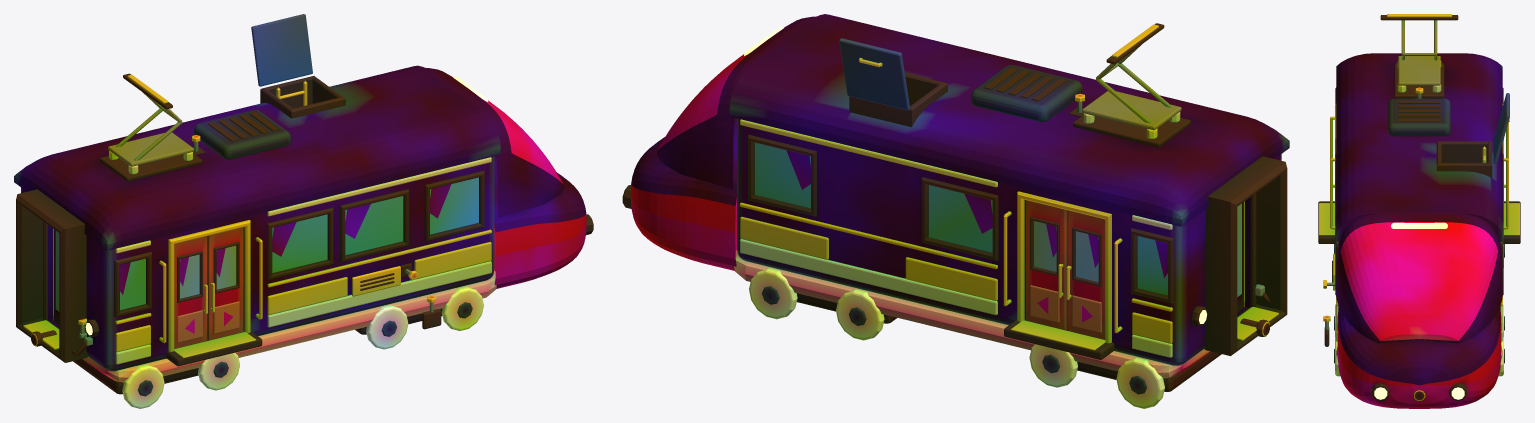
Rendered from ModernCabCar_Blockout.fbx.
The picture shows the model from 3 angles, left to right: view 1: azimuth 30°, elevation 25°; view 2: azimuth 150°, elevation 25°; view 3: azimuth 270°, elevation 25°; orthographic projection. The views are drawn at different scales.
Visible parts, largest first — view 1: Roof, Body, Windows, Nose, Underframe, Livery, Ends, SideDoorLeaf_R, SideDoorLeaf_L, RoofHatch_Cab, SideDoorSill, SideDoorFrame (+3 smaller); view 2: Roof, Body, Nose, Underframe, Livery, Windows, Ends, SideDoorLeaf_R_Far, SideDoorLeaf_L_Far, RoofHatch_Cab, SideDoorSill_Far, SideDoorFrame_Far (+2 smaller); view 3: Nose, Roof, SideDoorSill, SideDoorSill_Far, Fixed_Rail__Pantograph, Windows, RoofHatch_Cab, Underframe.
Part boxes in pixels (bbox=[...]): Roof: bbox=[14, 65, 500, 250]; Body: bbox=[21, 156, 494, 371]; Windows: bbox=[114, 170, 484, 317]; Nose: bbox=[425, 67, 593, 288]; Underframe: bbox=[73, 270, 496, 408]; Livery: bbox=[115, 157, 491, 364]; Ends: bbox=[16, 189, 99, 362]; SideDoorLeaf_R: bbox=[207, 227, 243, 339]; SideDoorLeaf_L: bbox=[174, 236, 207, 348]; RoofHatch_Cab: bbox=[251, 14, 312, 86]; SideDoorSill: bbox=[159, 237, 262, 366]; SideDoorFrame: bbox=[168, 220, 250, 351]; Roof: bbox=[729, 14, 1289, 226]; Body: bbox=[737, 118, 1281, 365]; Nose: bbox=[622, 16, 816, 270]; Underframe: bbox=[734, 250, 1221, 408]; Livery: bbox=[739, 119, 1172, 357]; Windows: bbox=[748, 134, 1174, 303]; Ends: bbox=[1191, 156, 1287, 355]; SideDoorLeaf_R_Far: bbox=[1025, 200, 1067, 329]; SideDoorLeaf_L_Far: bbox=[1066, 210, 1105, 339]; RoofHatch_Cab: bbox=[839, 38, 909, 110]; SideDoorSill_Far: bbox=[1003, 211, 1122, 359]; SideDoorFrame_Far: bbox=[1017, 191, 1111, 343]; Nose: bbox=[1336, 211, 1502, 408]; Roof: bbox=[1336, 53, 1502, 242]; SideDoorSill: bbox=[1318, 116, 1335, 243]; SideDoorSill_Far: bbox=[1503, 122, 1520, 243]; Fixed_Rail__Pantograph: bbox=[1380, 14, 1458, 60]; Windows: bbox=[1335, 87, 1503, 295]; RoofHatch_Cab: bbox=[1493, 93, 1509, 163]; Underframe: bbox=[1334, 244, 1504, 376].
Size of the model in its own units: 8.8 by 4.29 by 3.24.
